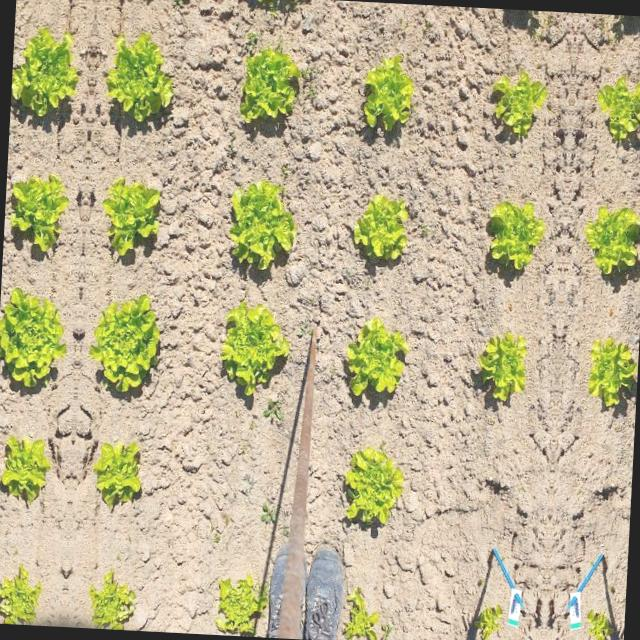healthy: (85, 288, 166, 400), (209, 296, 290, 404), (102, 29, 182, 134), (224, 173, 300, 281), (0, 283, 72, 395), (10, 24, 83, 129), (234, 38, 304, 134), (338, 315, 410, 405), (333, 441, 406, 529), (353, 46, 421, 140), (6, 171, 76, 262), (94, 176, 164, 266), (350, 188, 418, 264), (482, 70, 550, 144), (484, 197, 545, 277), (477, 325, 531, 408), (584, 331, 638, 414), (584, 202, 640, 282), (89, 434, 148, 509), (0, 429, 55, 504), (207, 574, 267, 638), (592, 75, 640, 150), (86, 568, 138, 630), (0, 563, 44, 625), (340, 585, 384, 640), (472, 598, 507, 640), (582, 603, 617, 640)
